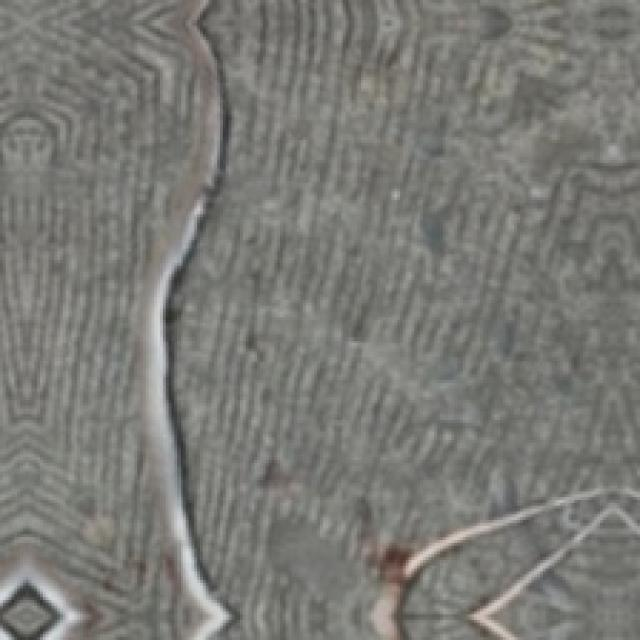reddish rat snake: (142, 0, 230, 639), (408, 492, 610, 581)
